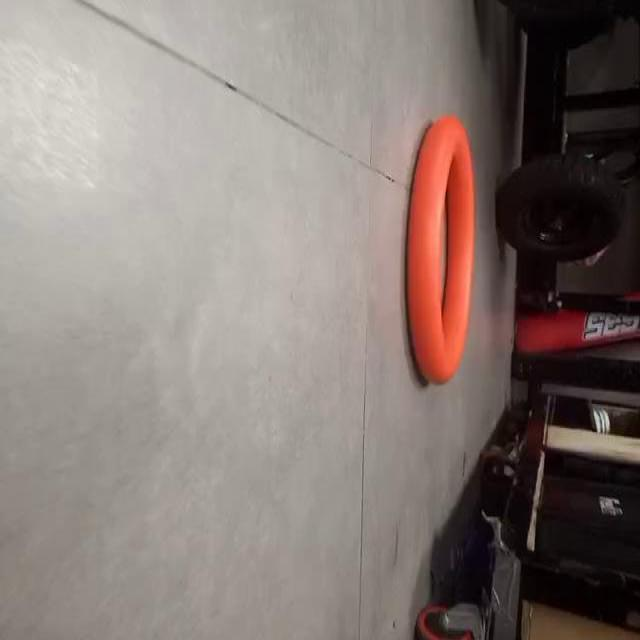note: (397, 111, 488, 399)
